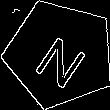N_NE: (28, 22, 91, 86)
